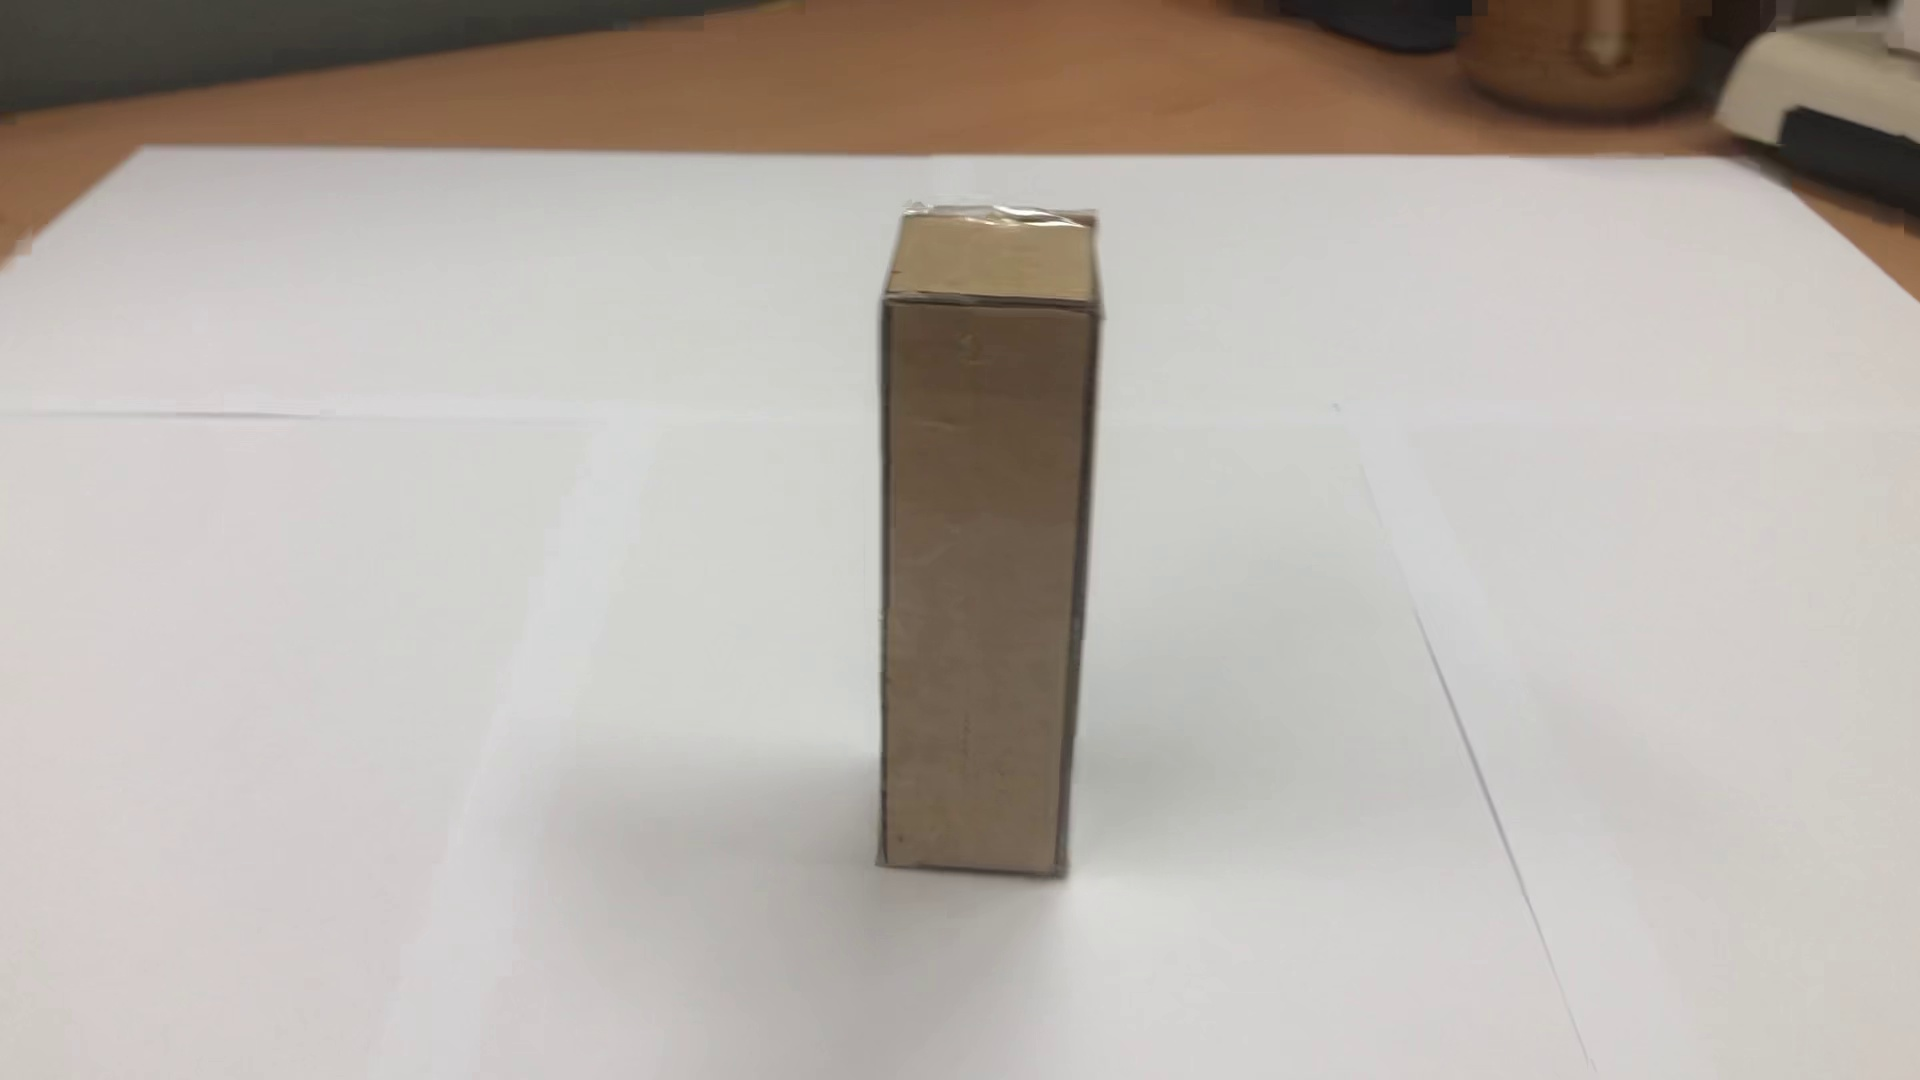box: (847, 193, 1130, 918)
